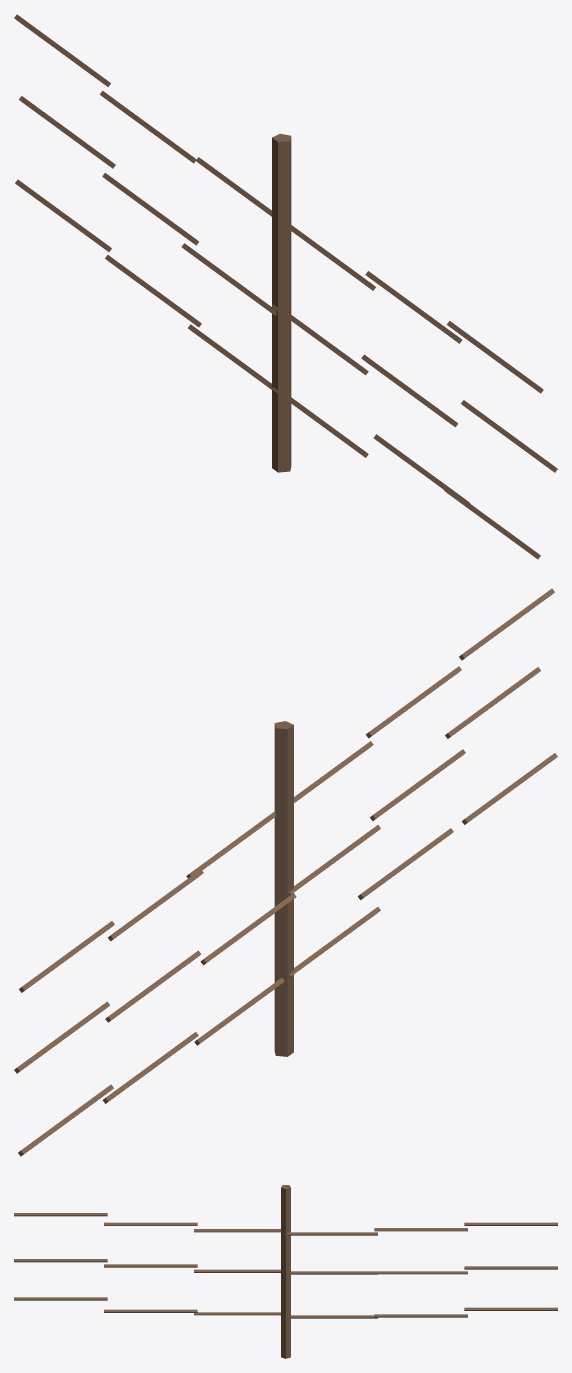
File: wire_stake.glb
3 renders of one model, top to bottom at view 1: azimuth 30°, elevation 25°; view 2: azimuth 150°, elevation 25°; view 3: azimuth 270°, elevation 25°, orthographic. The views are drawn at different scales.
Parts seen in each view (by area): view 1: wire_stake; view 2: wire_stake; view 3: wire_stake.
Part boxes in pixels (x1,y1,x2,y2): wire_stake: (14, 14, 557, 559); wire_stake: (14, 588, 557, 1156); wire_stake: (14, 1185, 557, 1358).
Bounding box in the file's own units: 0.0768 × 1.04 × 3.02.
